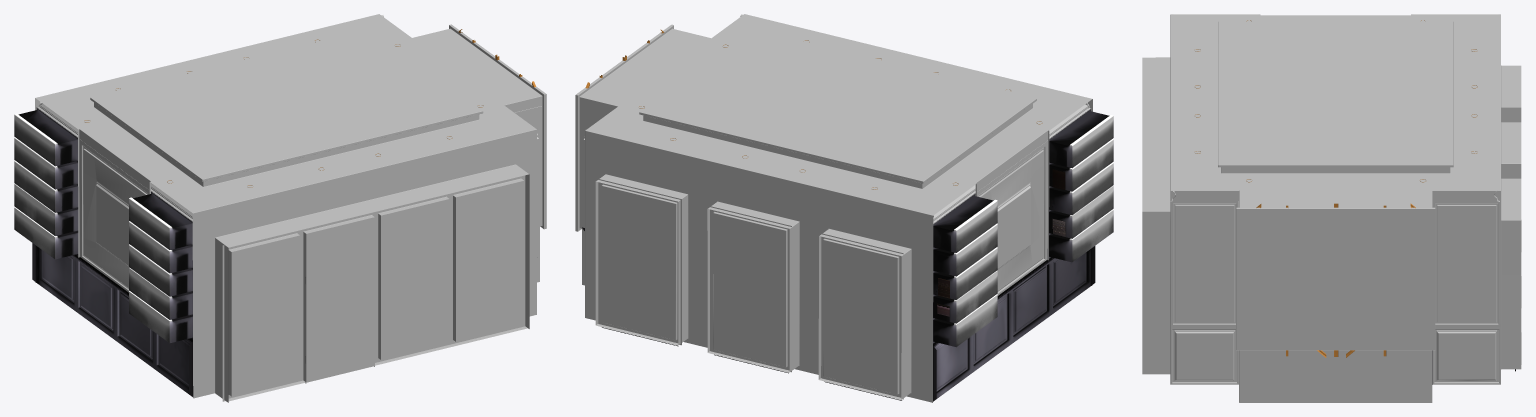
File: personal_office.fbx
3 renders of one model, left to right at view 1: azimuth 30°, elevation 25°; view 2: azimuth 150°, elevation 25°; view 3: azimuth 270°, elevation 25°, orthographic. The views are drawn at different scales.
Parts seen in each view (by area): view 1: walls, Cube.004, Cube.012, walls.001; view 2: walls, Cube.004, Cube.012, Cube.019, walls.001; view 3: walls.
Boxes of the visible parts, x1,y1,x2,y2 form: walls: [35, 14, 546, 402]; Cube.004: [14, 107, 192, 343]; Cube.012: [32, 243, 193, 397]; walls.001: [37, 15, 541, 221]; walls: [575, 14, 1092, 402]; Cube.004: [933, 108, 1113, 347]; Cube.012: [933, 246, 1095, 401]; Cube.019: [937, 169, 1065, 316]; walls.001: [584, 14, 1090, 223]; walls: [1142, 14, 1521, 402].
Bounding box in the file's own units: 864 × 398 × 665.
